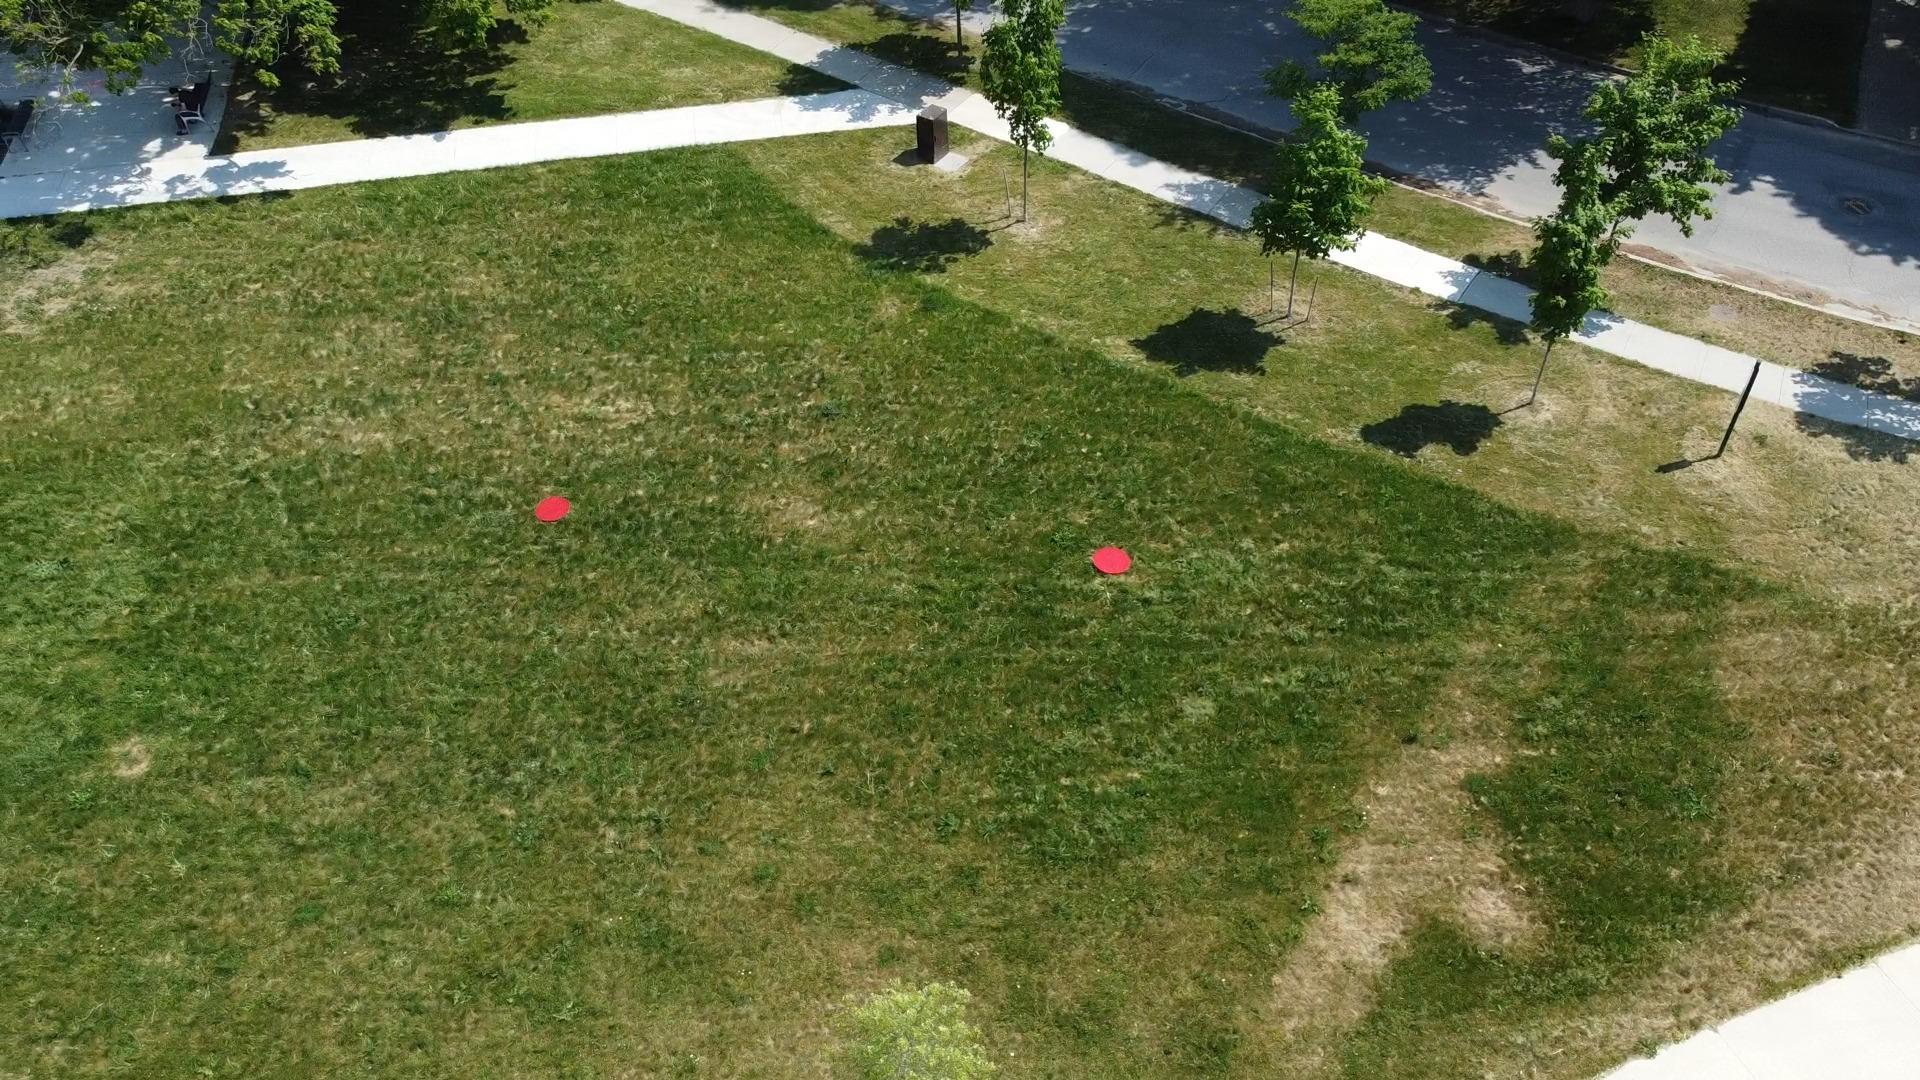Red: (1093, 545, 1134, 576), (533, 495, 572, 524)
